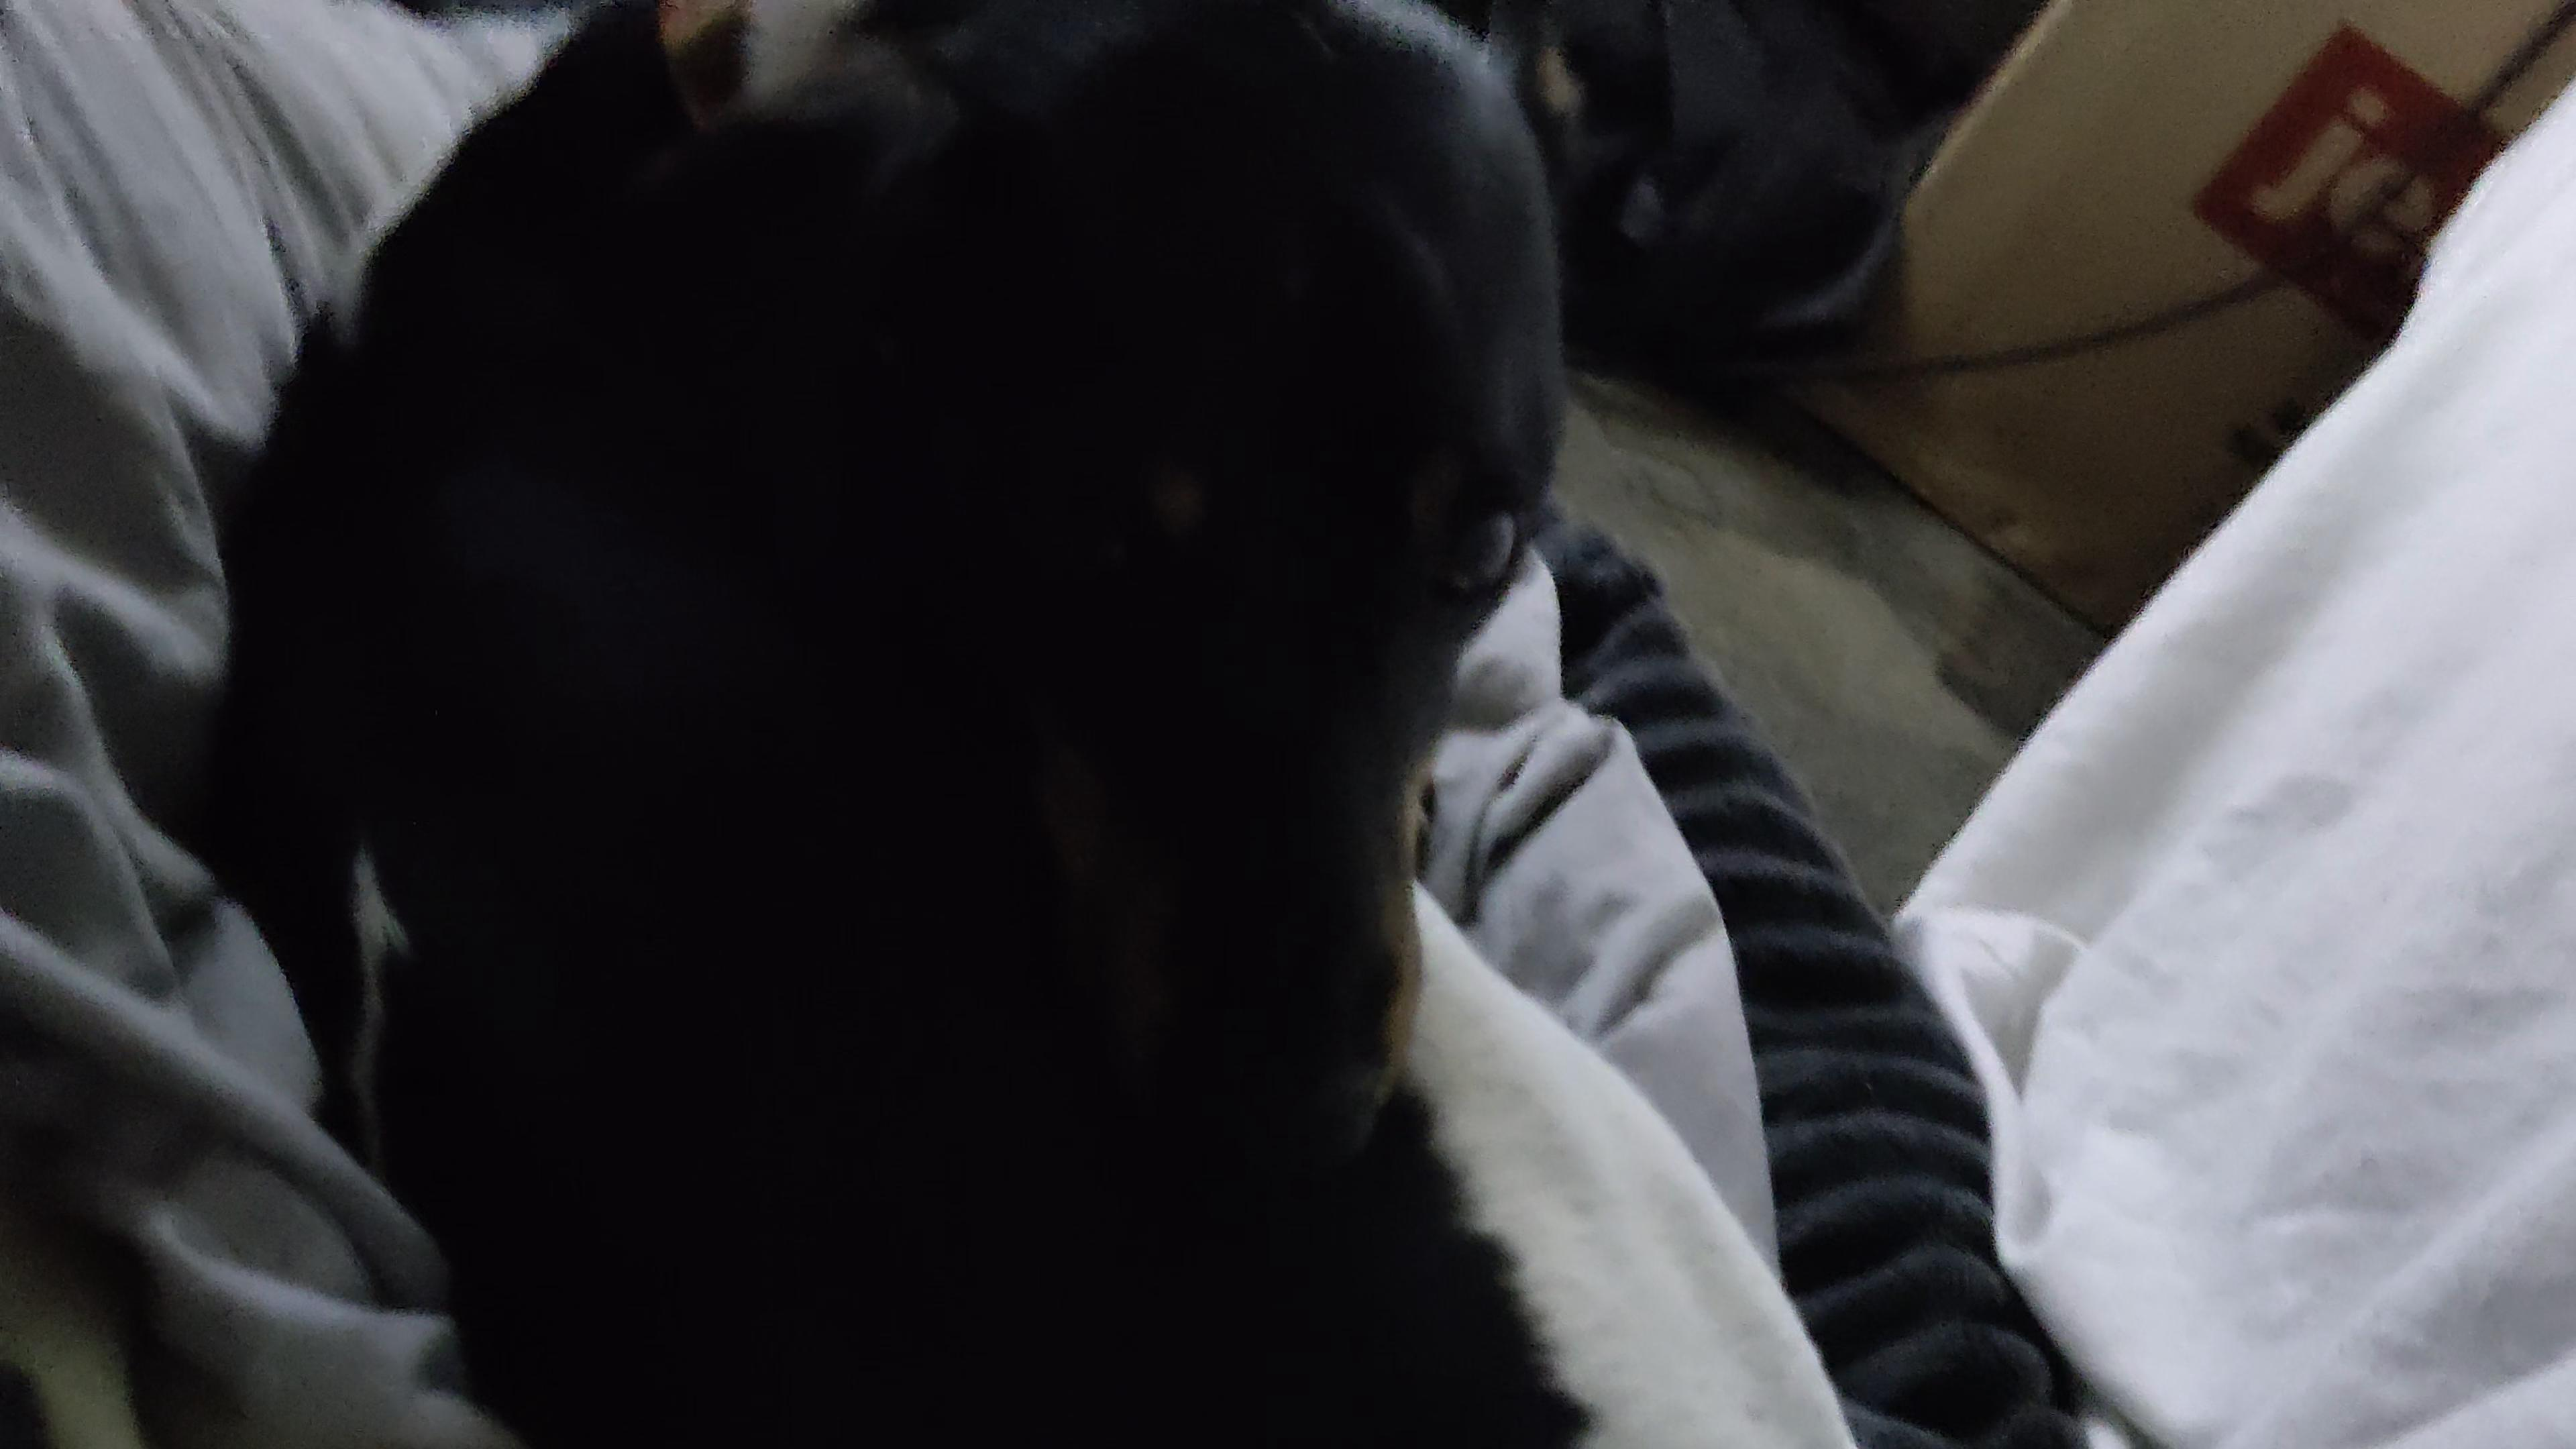Dog: (214, 0, 1858, 1449)
